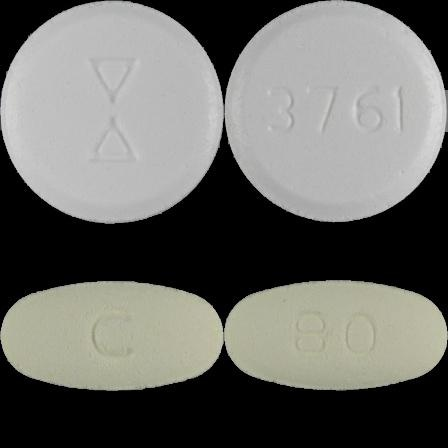66116-391: (0, 0, 224, 224)
